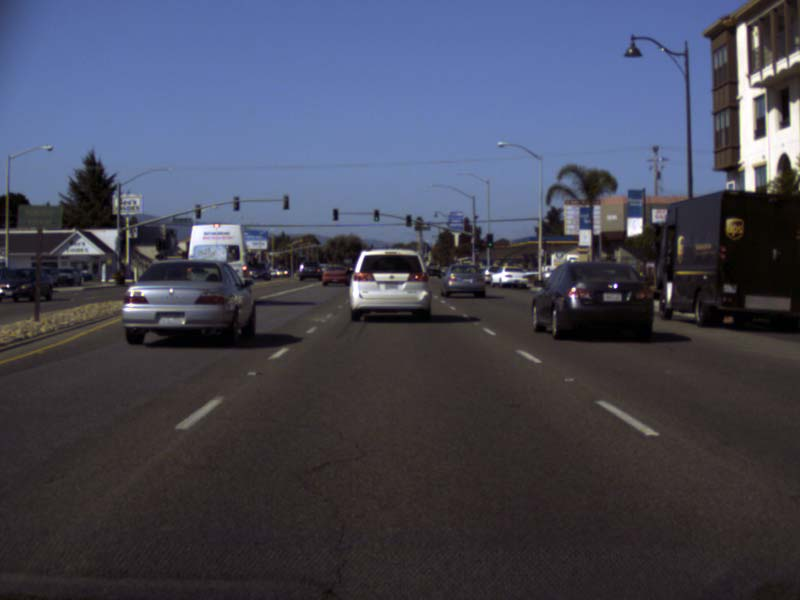Green: (373, 208, 380, 221), (486, 234, 492, 247)
